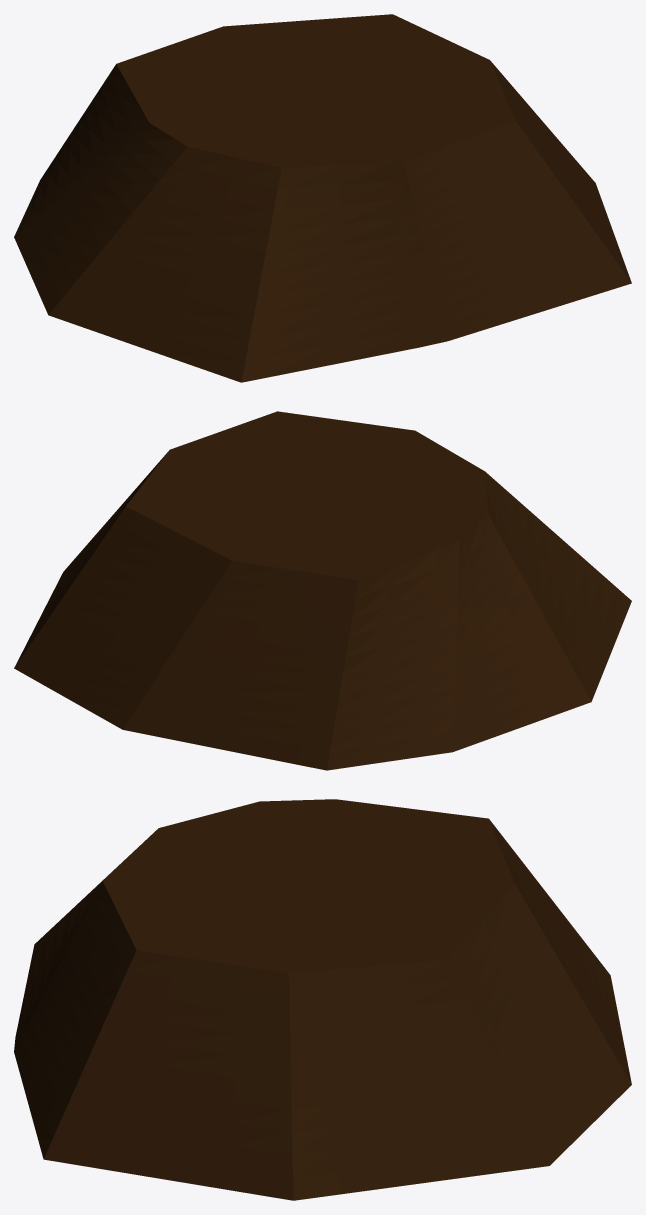
Rendered from Platform_1.fbx.
The picture shows the model from 3 angles, top to bottom: view 1: azimuth 30°, elevation 25°; view 2: azimuth 150°, elevation 25°; view 3: azimuth 270°, elevation 25°; orthographic projection. The views are drawn at different scales.
Parts seen in each view (by area): view 1: Loft_1, Cap_1; view 2: Loft_1, Cap_1; view 3: Loft_1, Cap_1.
Boxes of the visible parts, box(x1,y1,x2,y2) form: Loft_1: box(14, 61, 631, 382); Cap_1: box(116, 14, 514, 167); Loft_1: box(14, 452, 631, 770); Cap_1: box(126, 411, 488, 580); Loft_1: box(14, 819, 631, 1200); Cap_1: box(103, 799, 514, 973).
Size of the model in its own units: 947 by 250 by 831.
